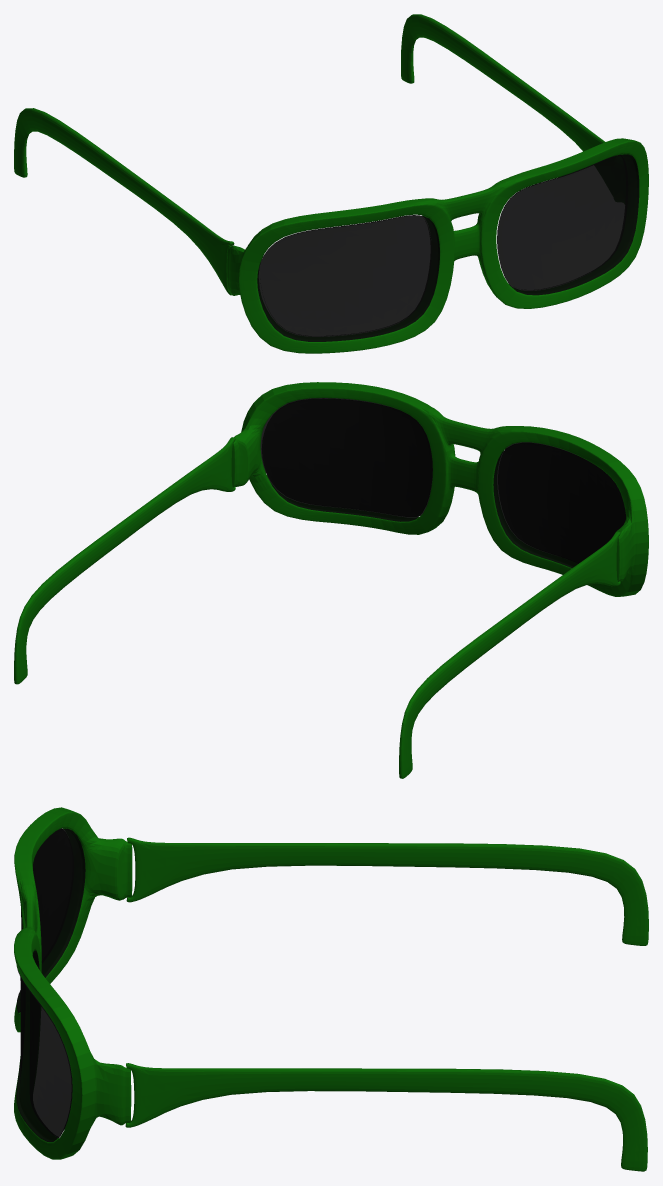
File: sunglass_green.obj
The picture shows the model from 3 angles, top to bottom: view 1: azimuth 30°, elevation 25°; view 2: azimuth 150°, elevation 25°; view 3: azimuth 270°, elevation 25°; orthographic projection. The views are drawn at different scales.
Parts seen in each view (by area): view 1: Right_Cube.001; view 2: Right_Cube.001; view 3: Right_Cube.001.
Boxes of the visible parts, bbox=[...] form: Right_Cube.001: bbox=[14, 14, 648, 353]; Right_Cube.001: bbox=[14, 382, 648, 778]; Right_Cube.001: bbox=[14, 807, 648, 1171].
Size of the model in its own units: 0.0577 by 0.0184 by 0.0648.
